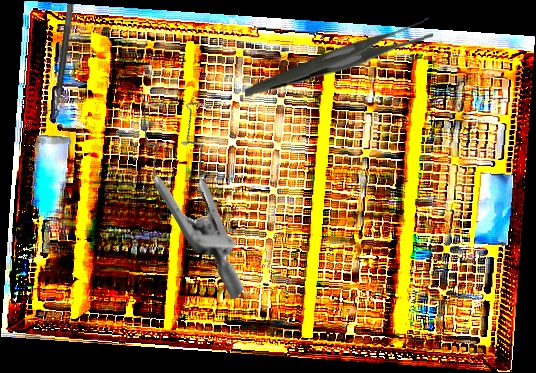Dressing Forceps: (243, 17, 434, 98)
Fixation Ring: (41, 1, 75, 122)
Speculum: (85, 76, 320, 301)
